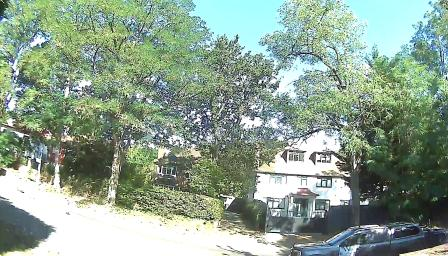Cars: (286, 228, 448, 256)
